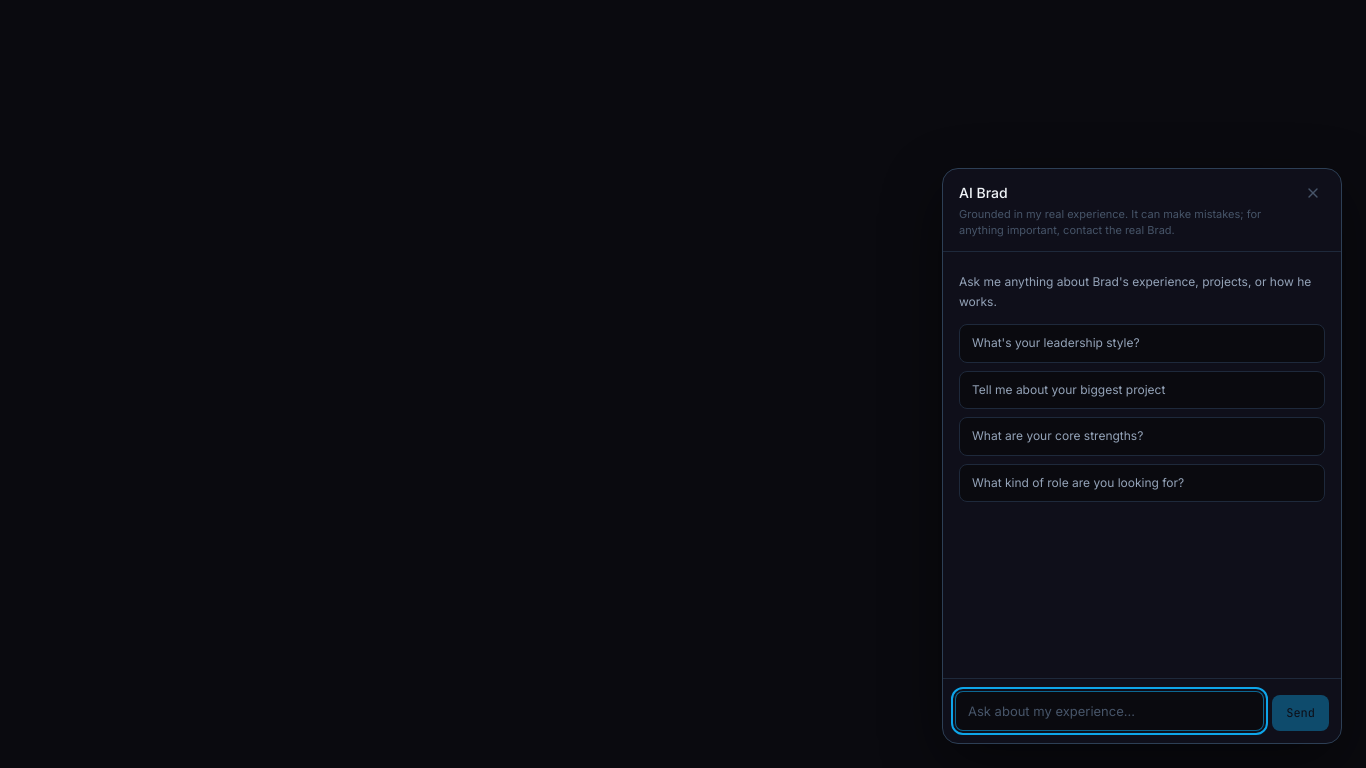
Test: ChatPanel › renders assistant text incrementally while chunks stream in
Click the button "What's your leadership style?".
click(1142, 344)  # box [959, 324, 1325, 363]
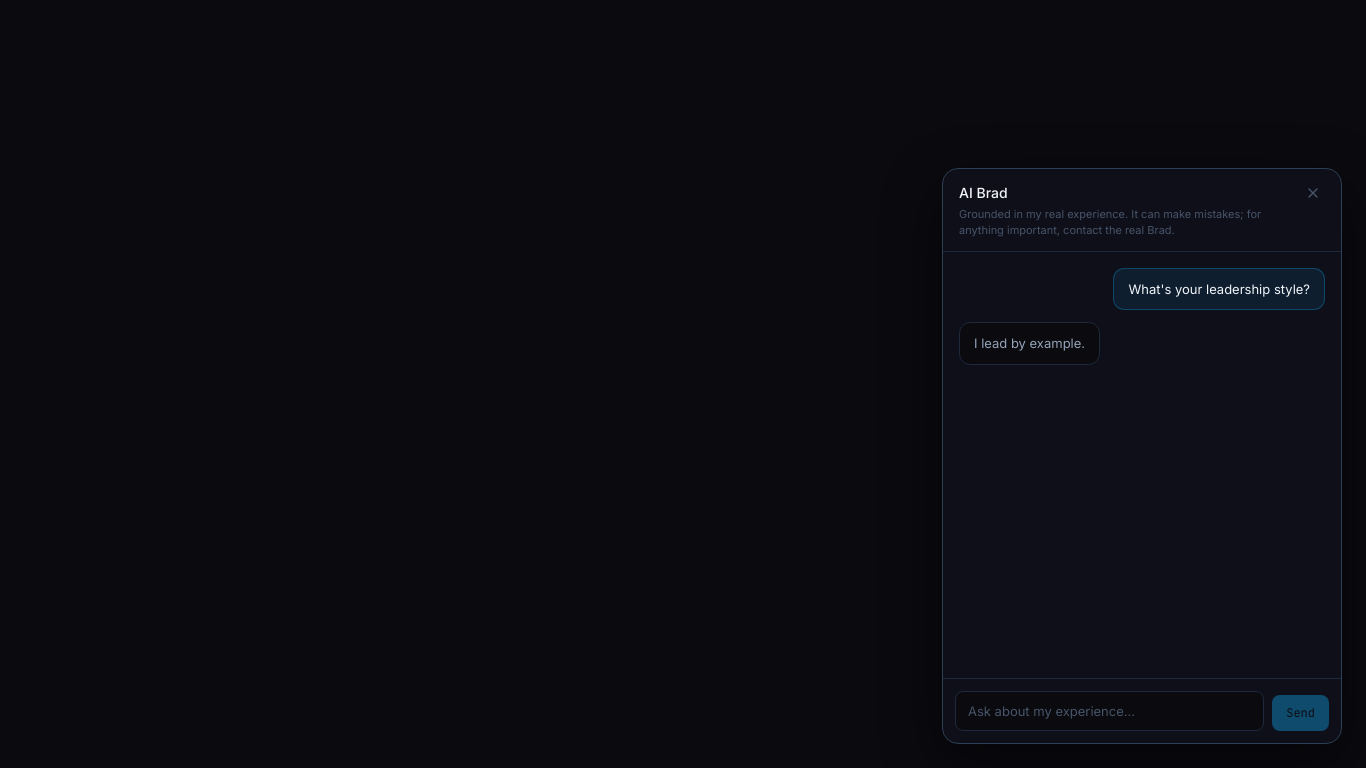
expect the text "I lead by example." is shown: met, box [959, 322, 1100, 365]
